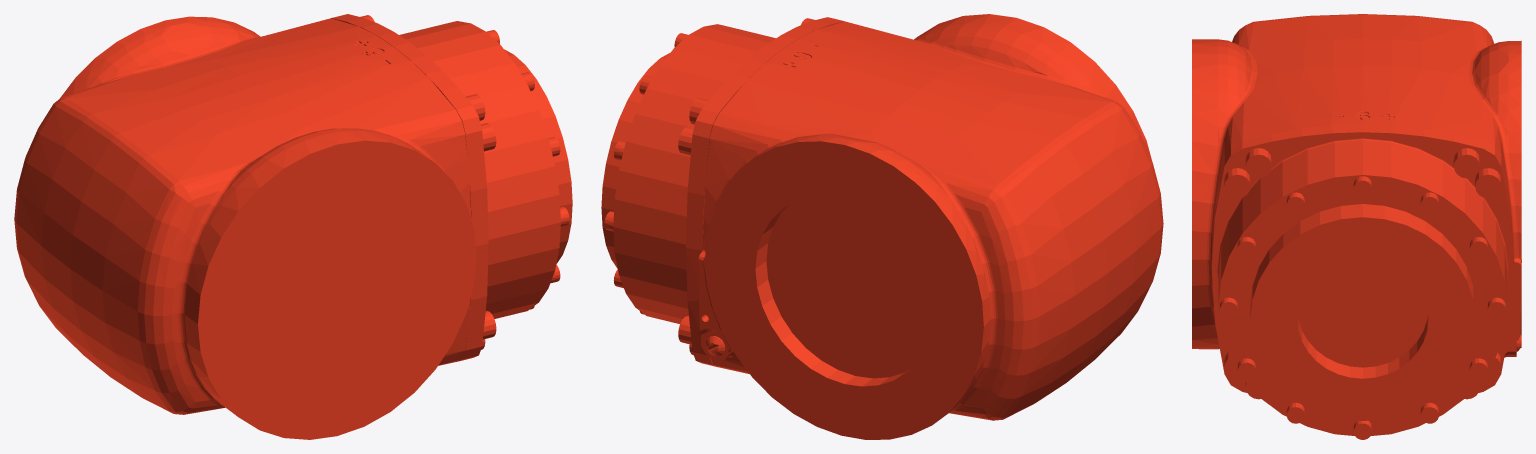
3 views of the same model, side by side, from view 1: azimuth 30°, elevation 25°; view 2: azimuth 150°, elevation 25°; view 3: azimuth 270°, elevation 25° (orthographic). The views are drawn at different scales.
Parts seen in each view (by area): view 1: link_5; view 2: link_5; view 3: link_5.
Part boxes in pixels (x1,y1,x2,y2): link_5: (14, 14, 572, 439); link_5: (601, 14, 1163, 439); link_5: (1192, 14, 1521, 439).
Bounding box in the file's own units: 0.188 × 0.1255 × 0.118.
